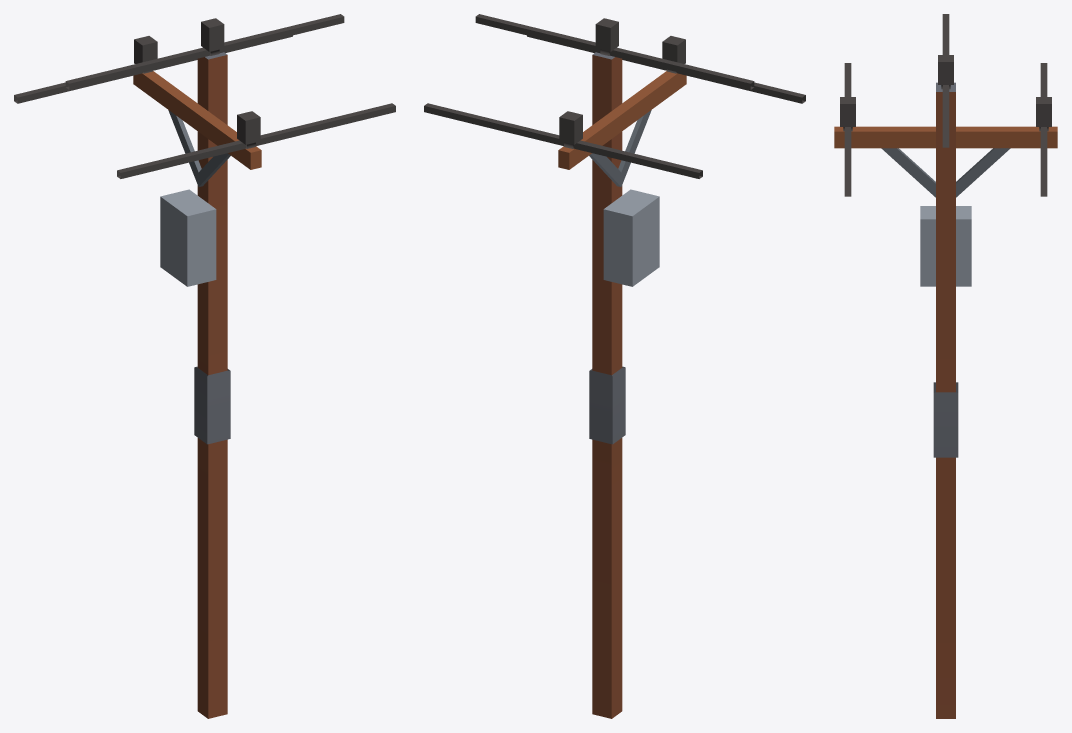
The model's file is ElectricPole001.fbx.
The picture shows the model from 3 angles, left to right: view 1: azimuth 30°, elevation 25°; view 2: azimuth 150°, elevation 25°; view 3: azimuth 270°, elevation 25°; orthographic projection. The views are drawn at different scales.
Parts seen in each view (by area): view 1: Dianxiangan; view 2: Dianxiangan; view 3: Dianxiangan.
Boxes of the visible parts, <box> form: Dianxiangan: <box>14,14,395,718</box>; Dianxiangan: <box>424,14,805,718</box>; Dianxiangan: <box>834,14,1057,718</box>.
Bounding box in the file's own units: 280 × 670 × 207.
